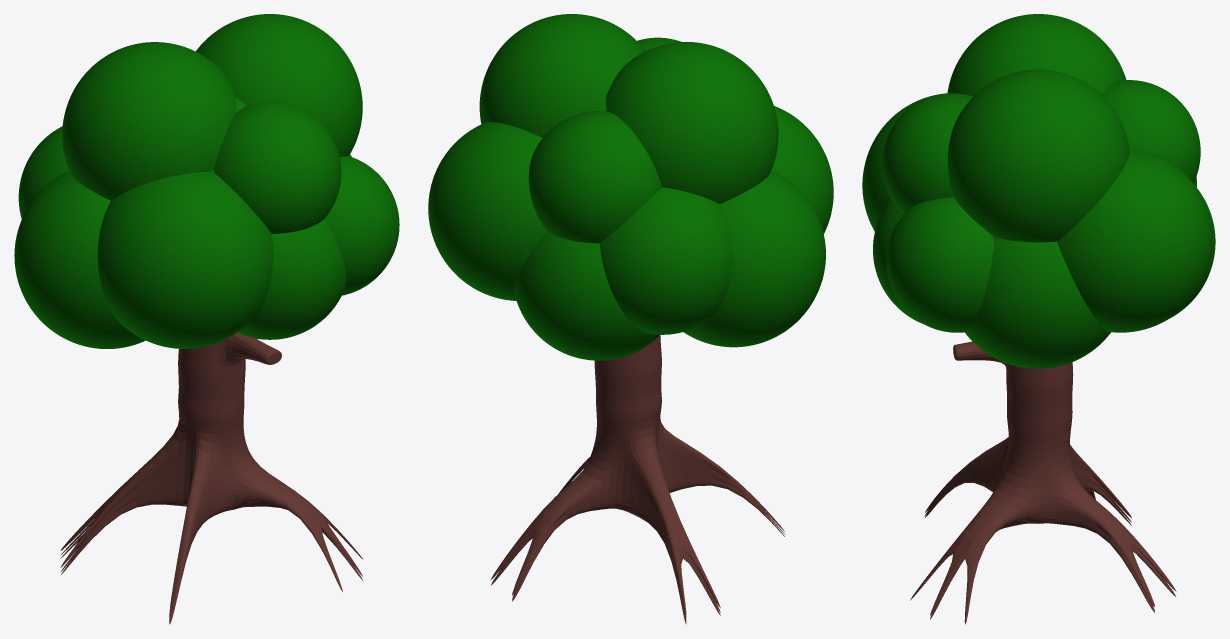
Rendered from ARVORES.fbx.
3 renders of one model, left to right at view 1: azimuth 30°, elevation 25°; view 2: azimuth 150°, elevation 25°; view 3: azimuth 270°, elevation 25°, orthographic.
Visible parts, largest first — view 1: Circle.001; view 2: Circle.001; view 3: Circle.001.
Boxes of the visible parts, x1,y1,x2,y2 form: Circle.001: [14, 14, 399, 624]; Circle.001: [428, 14, 833, 624]; Circle.001: [862, 14, 1215, 624].
Bounding box in the file's own units: 394 × 600 × 364.
